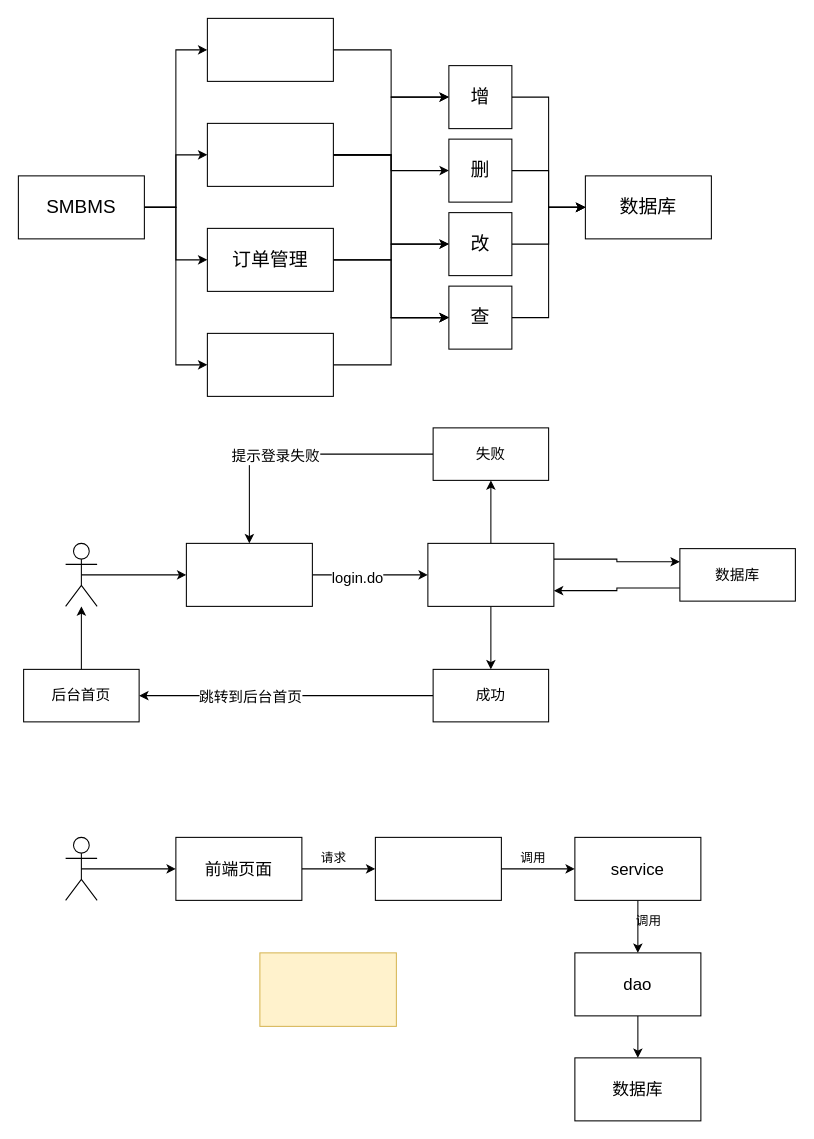
Some shapes in this 814 by 1139 pixel diagram are drawn without their labels. The box of each missing label's shape, as (x1, y1, x2, y2) in pixels:
Actor: (65, 836, 97, 900)
Servlet: (374, 836, 501, 900)
供应商管理: (206, 332, 333, 396)
判断是否登录成功: (427, 542, 554, 606)
思考功能和架构: (259, 952, 396, 1026)
用户管理: (206, 122, 333, 186)
登录页面 用户名 密码: (185, 542, 312, 606)
登陆注销: (206, 17, 333, 81)
